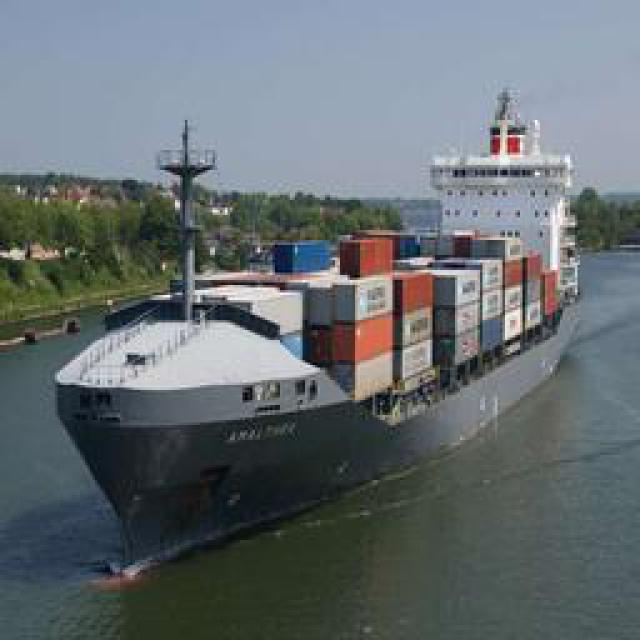Ship: (60, 85, 598, 585)
